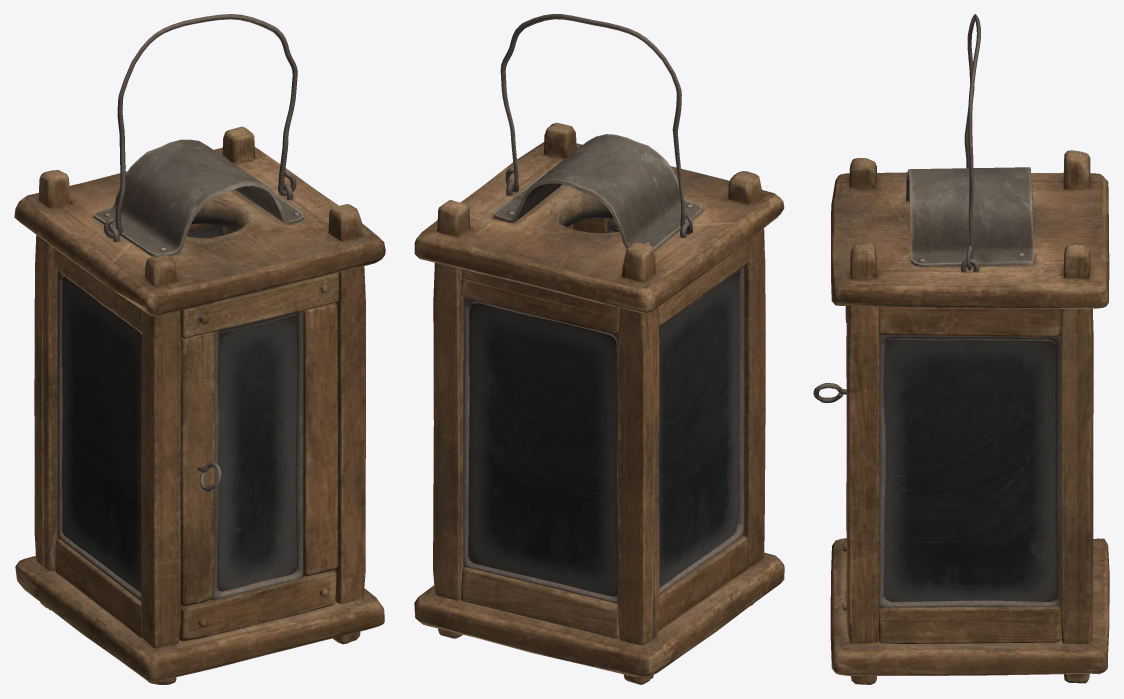
Rendered from wooden_lantern_01.glb.
The picture shows the model from 3 angles, left to right: view 1: azimuth 30°, elevation 25°; view 2: azimuth 150°, elevation 25°; view 3: azimuth 270°, elevation 25°; orthographic projection.
Parts seen in each view (by area): view 1: wooden_lantern_01; view 2: wooden_lantern_01; view 3: wooden_lantern_01.
Part boxes in pixels (x1,y1,x2,y2): wooden_lantern_01: (14, 14, 385, 684); wooden_lantern_01: (414, 14, 784, 684); wooden_lantern_01: (813, 14, 1109, 684).
Size of the model in its own units: 0.221 by 0.5301 by 0.2347.
2 materials, 2 textured.
